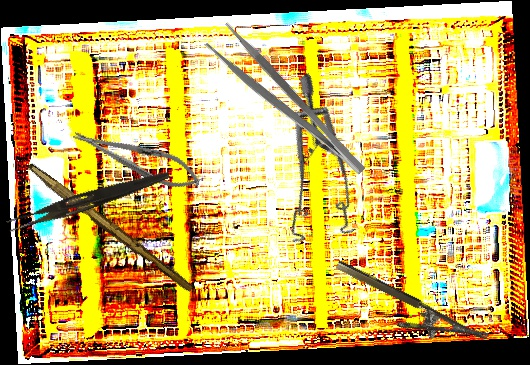Dressing Forceps: (203, 20, 370, 190), (5, 162, 172, 239)
Needle Holder: (324, 258, 490, 365), (68, 118, 206, 198)
Scalpel Handle: (23, 162, 197, 294)
Speculum: (219, 72, 396, 263)
